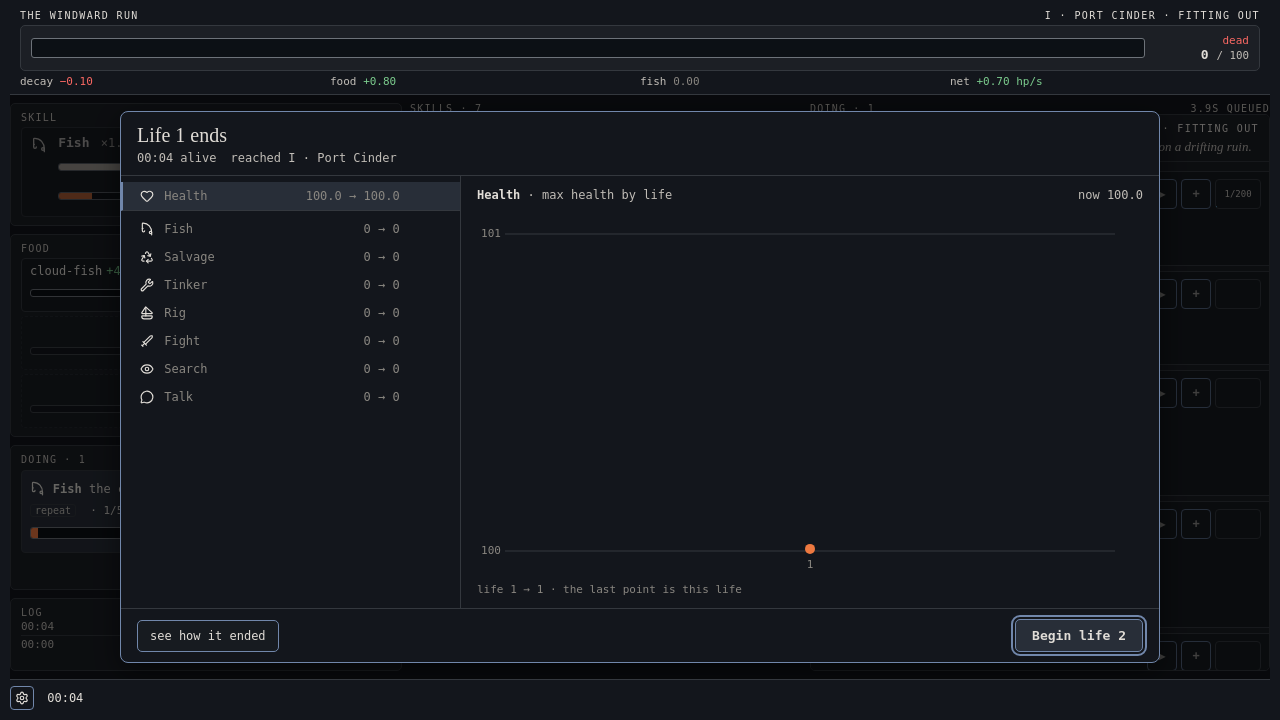
it: App › death: the card is up over the chapter, every chunk behind it is inert, and Begin starts life 2
The width and height of the screenshot is (1280, 720).
Expected: the element labelled "roster" is shown, top-left (410, 103), bottom-right (802, 476)
Expected: the element named "chapter" is shown, top-left (810, 103), bottom-right (1270, 671)
Click the button "Begin life 2". click: (1079, 636)
box: top-left (1015, 619), bottom-right (1143, 652)
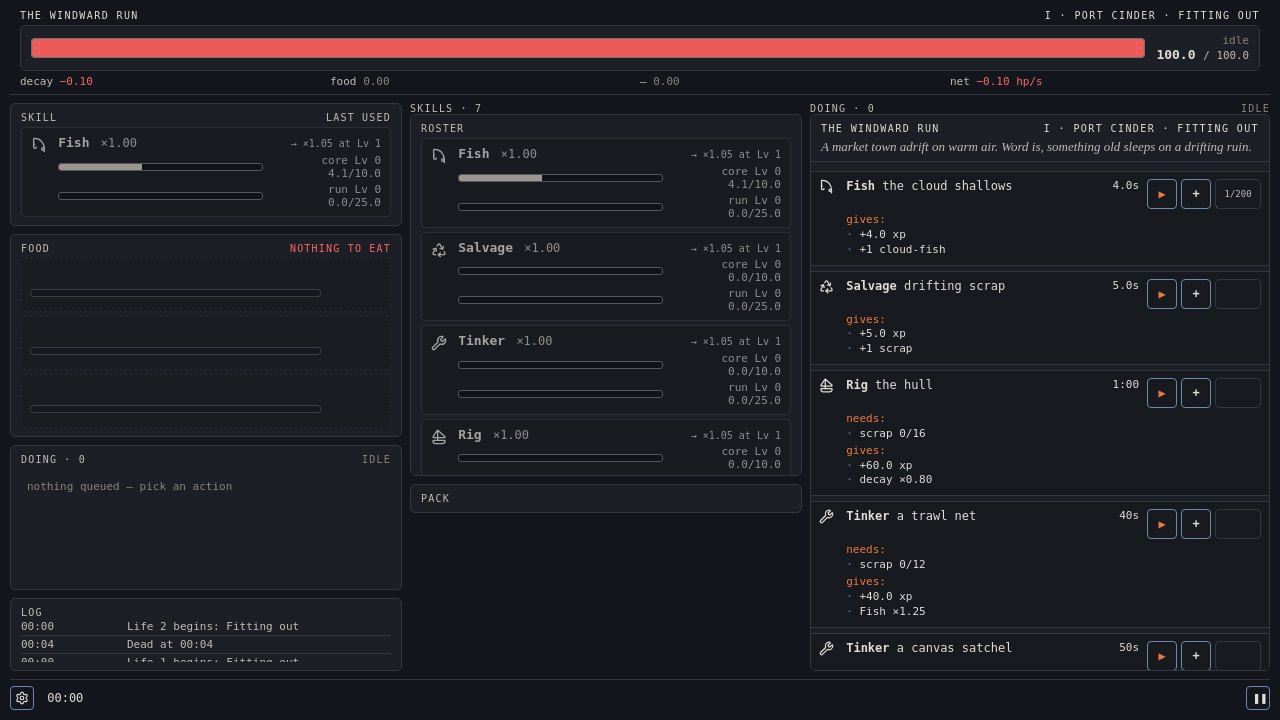
Expected: the dialog is gone
